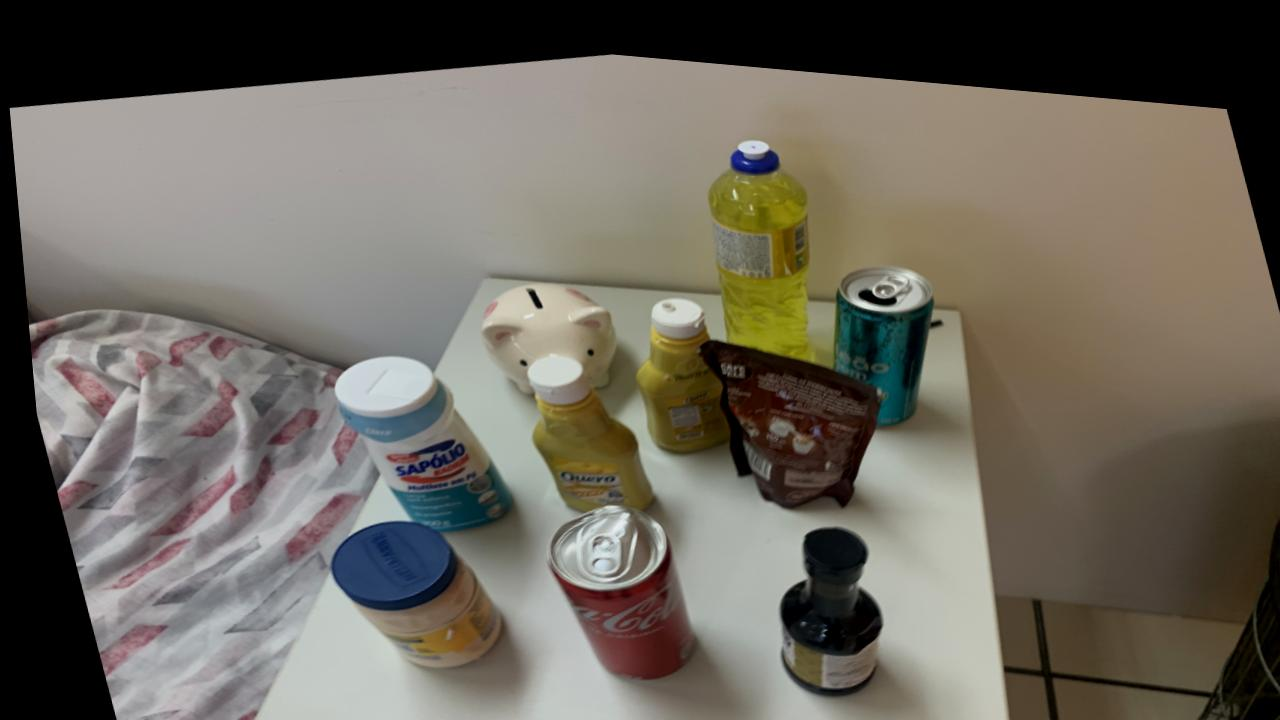Cleaner-Cleanup_Items: (327, 349, 504, 524)
Coffee-Pantry_Items: (693, 327, 876, 493)
Coke-Drinks: (537, 494, 685, 668)
Detergent-Cleanup_Items: (705, 125, 806, 345)
English_Sauce-Pantry_Items: (769, 512, 872, 680)
Mayonnaise-Pantry_Items: (321, 513, 492, 660)
Mustard-Pantry_Items: (520, 344, 645, 501), (630, 285, 722, 439)
Pig_Safe-Miscellaneous: (475, 271, 611, 384)
Tea-Drinks: (827, 249, 930, 409)
